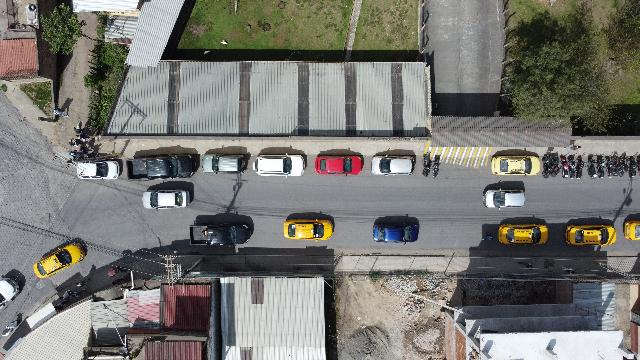Vehiculo: (33, 238, 87, 278), (190, 214, 254, 246), (127, 154, 196, 180), (564, 217, 616, 251), (253, 148, 307, 176), (142, 180, 194, 209), (498, 217, 548, 246), (284, 212, 334, 240), (373, 214, 419, 243), (492, 150, 540, 176), (316, 149, 364, 175), (483, 180, 525, 208), (372, 149, 416, 175), (1, 270, 26, 314), (76, 160, 122, 180), (202, 154, 245, 174), (623, 213, 639, 241)
